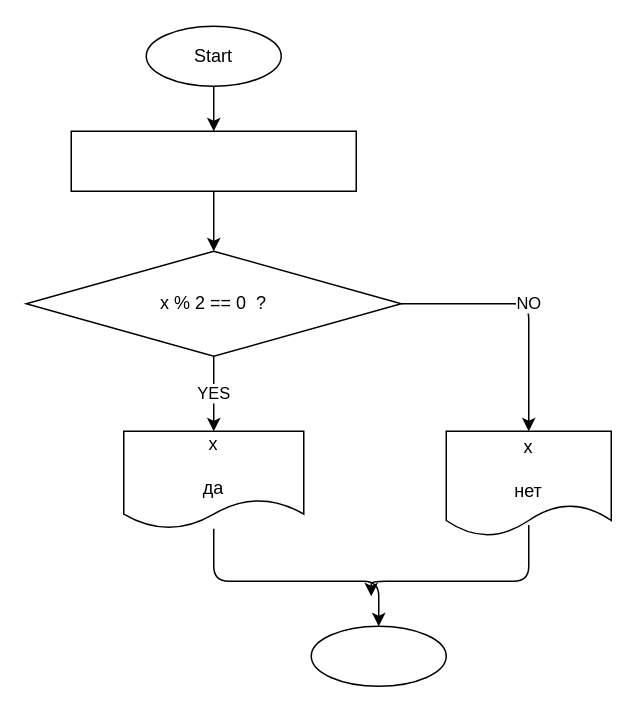
Image size: 638x713. Some labels were removed from this diagram. The centre of each missing label's shape, as x and y in pixels:
"END" goes at point (378, 655).
"x = Random(10, 20)" goes at point (213, 160).
